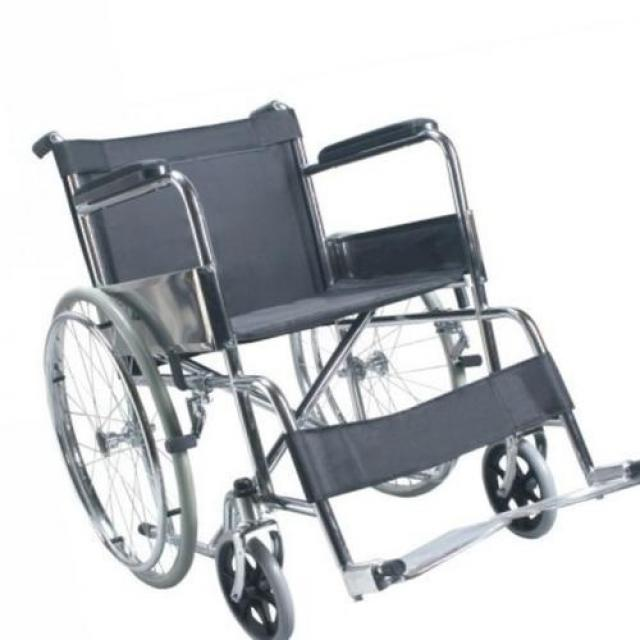wheelchair: (24, 83, 636, 640)
